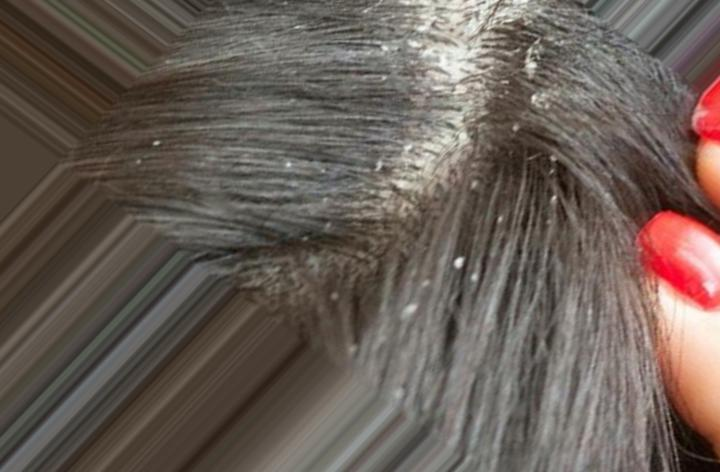Contact Dermatitis: (283, 69, 594, 348)
